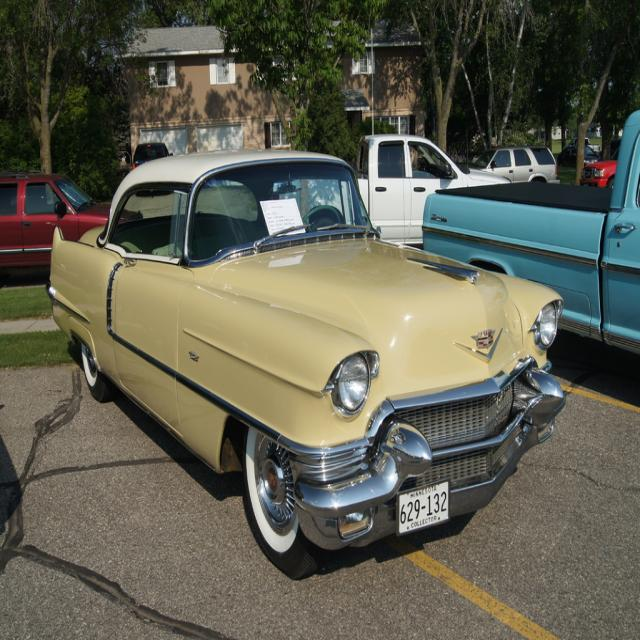car: (44, 144, 564, 573)
